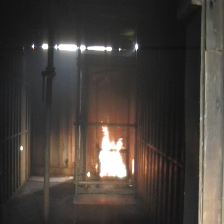fire_h: (99, 119, 126, 178)
fire_l: (95, 162, 98, 173)
